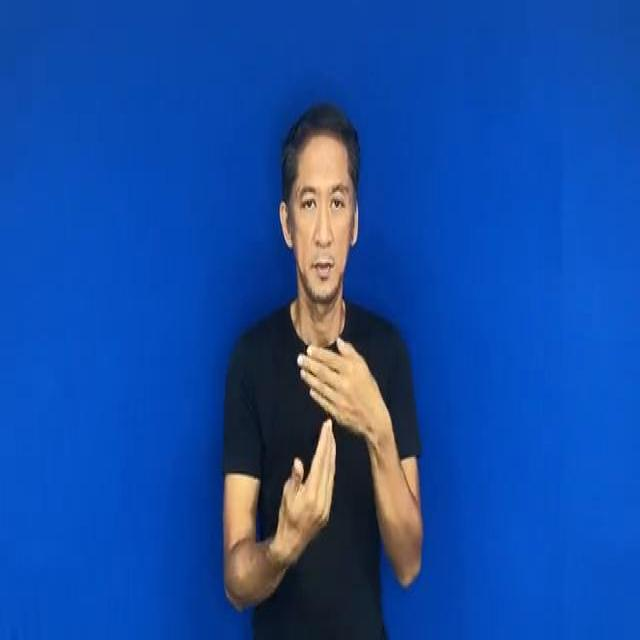bread: (283, 327, 385, 560)
